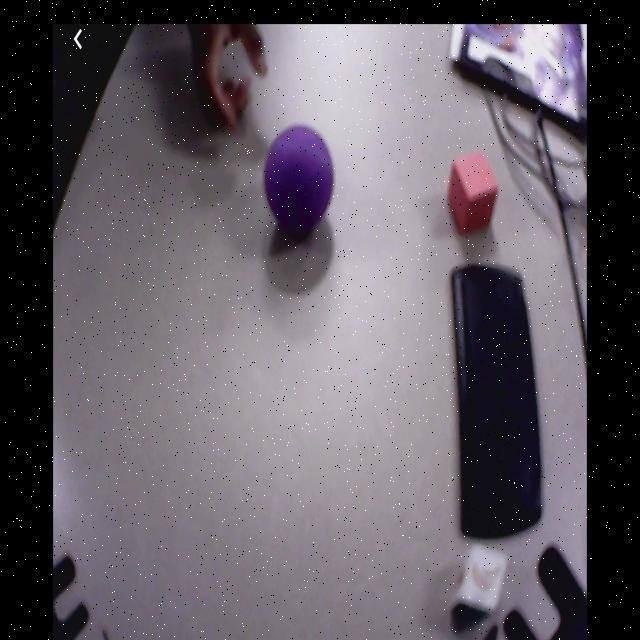ball: (265, 128, 334, 234)
